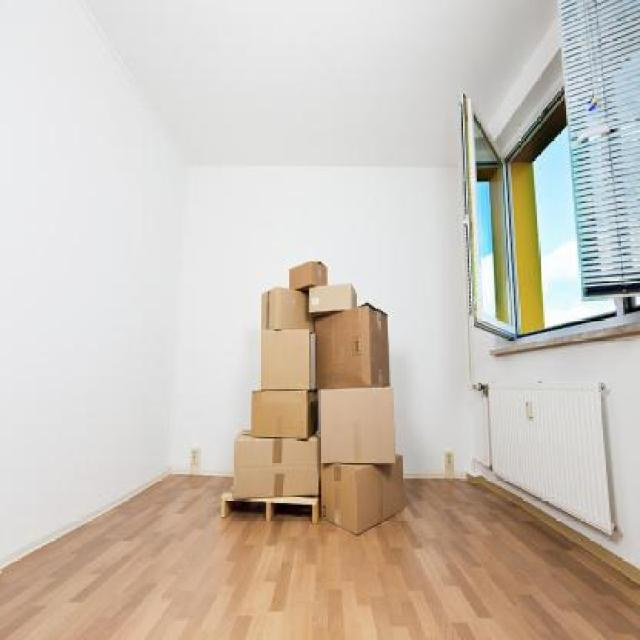cardboxes: (319, 452, 407, 540), (312, 300, 390, 391), (230, 431, 322, 503), (318, 383, 396, 459), (255, 322, 319, 390), (248, 387, 321, 439), (257, 284, 315, 336), (306, 282, 360, 313), (288, 259, 330, 292)
